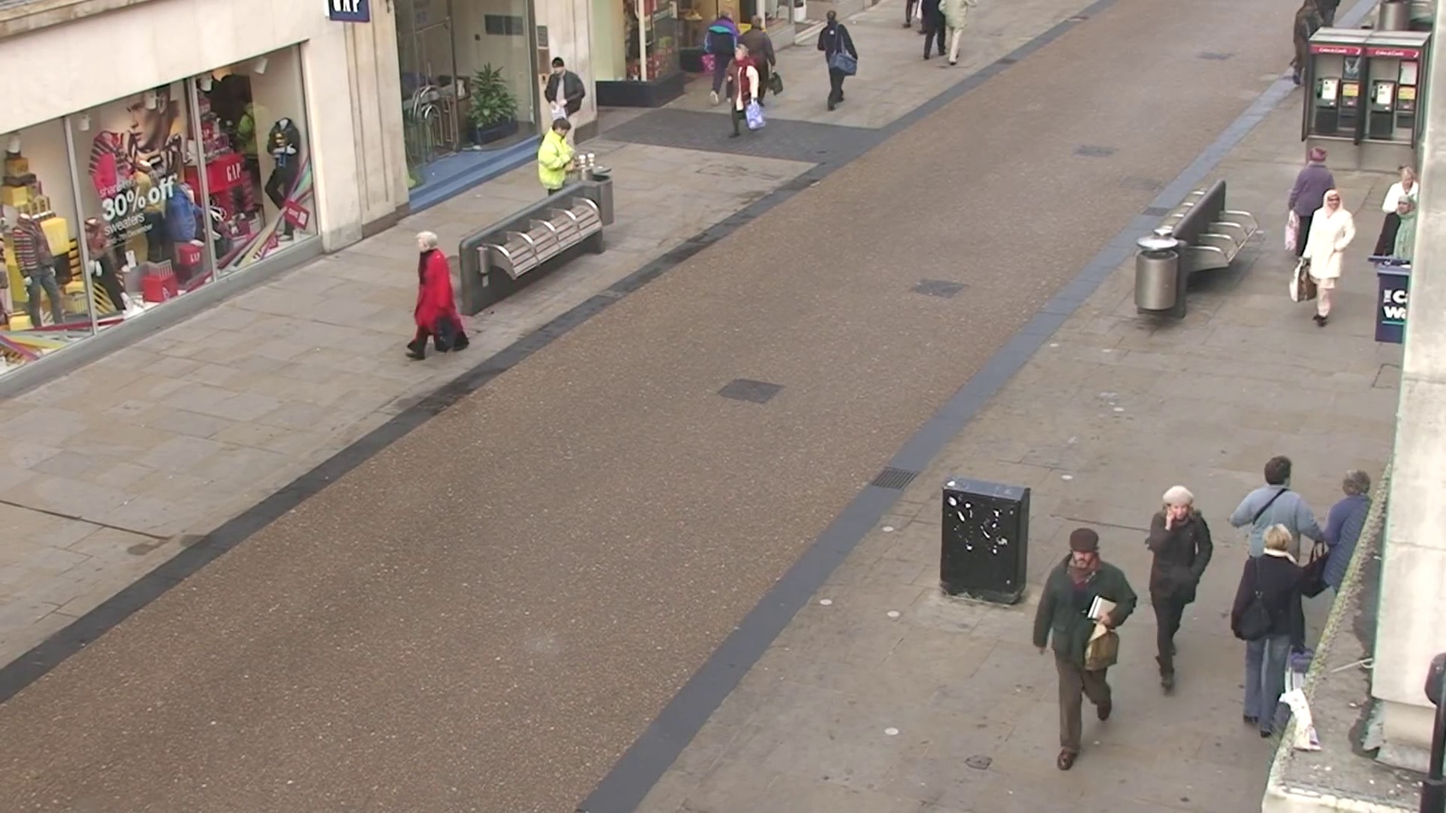person: (1228, 457, 1328, 743), (1032, 527, 1139, 770), (1299, 467, 1374, 730), (1143, 483, 1214, 697), (407, 236, 470, 358), (1301, 190, 1356, 327), (1285, 145, 1340, 255), (1374, 162, 1420, 261), (817, 10, 859, 111), (738, 17, 785, 100), (702, 5, 740, 103), (541, 53, 587, 132), (537, 114, 581, 196), (731, 50, 769, 136), (918, 0, 947, 62)
